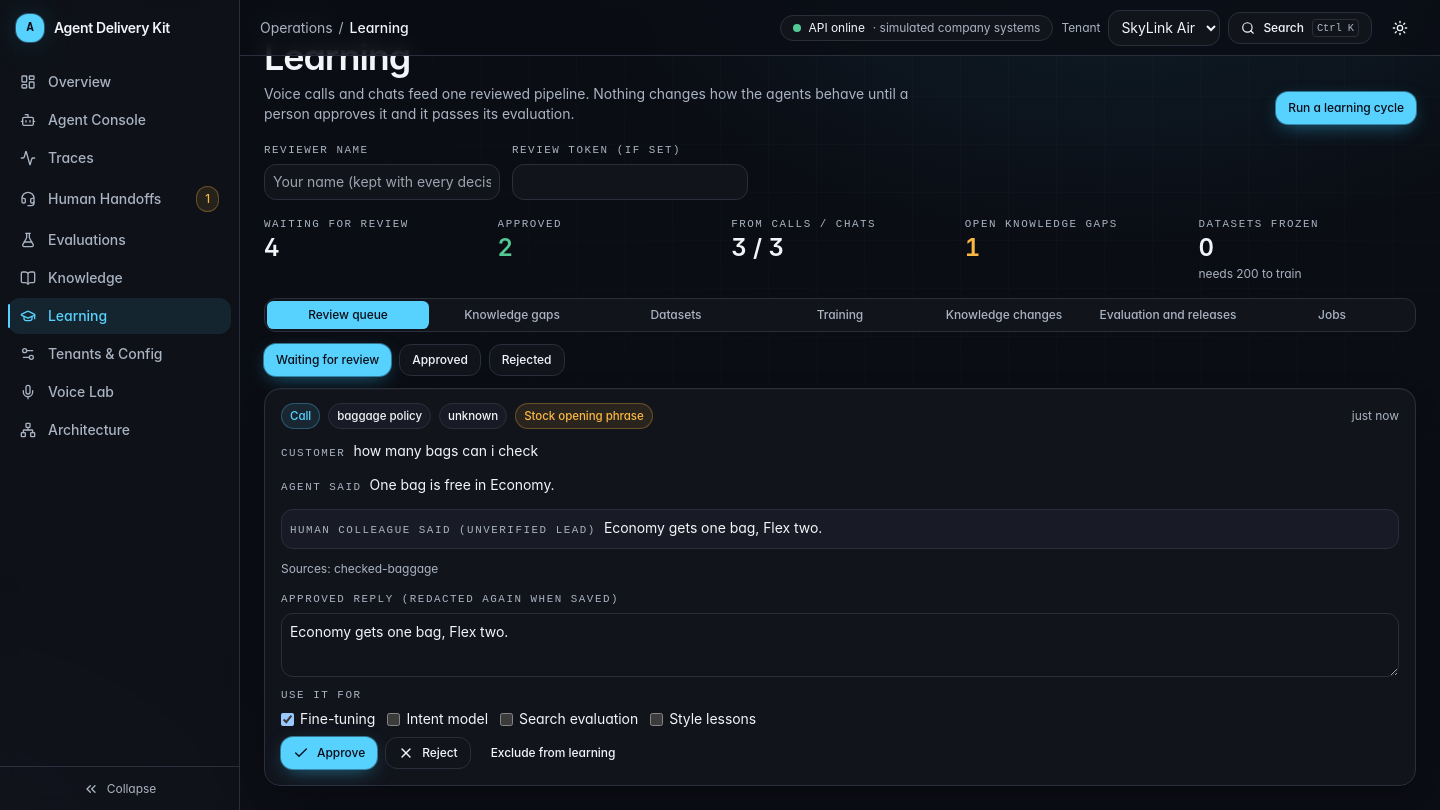
Scenario: Learning console › shows a server refusal to the reviewer instead of hiding it
(page scrolled)
expect the text "how many bags can i check" is shown: met, box top-left (353, 442), bottom-right (538, 459)
Click the button "Approve". click: (329, 753)
box: top-left (281, 737), bottom-right (377, 769)
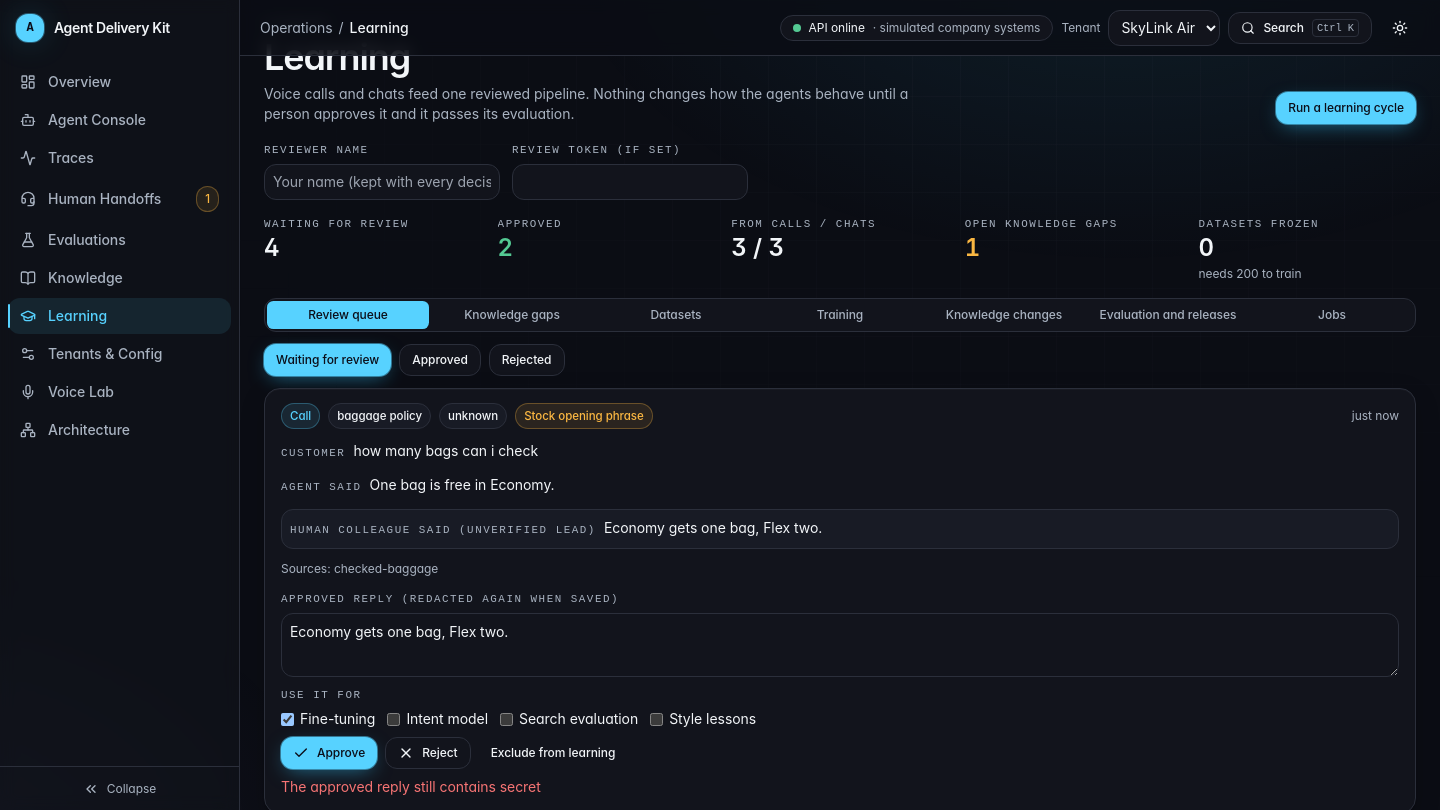
expect the message "The approved reply still contains secret" is shown: met, box top-left (281, 778), bottom-right (541, 795)
